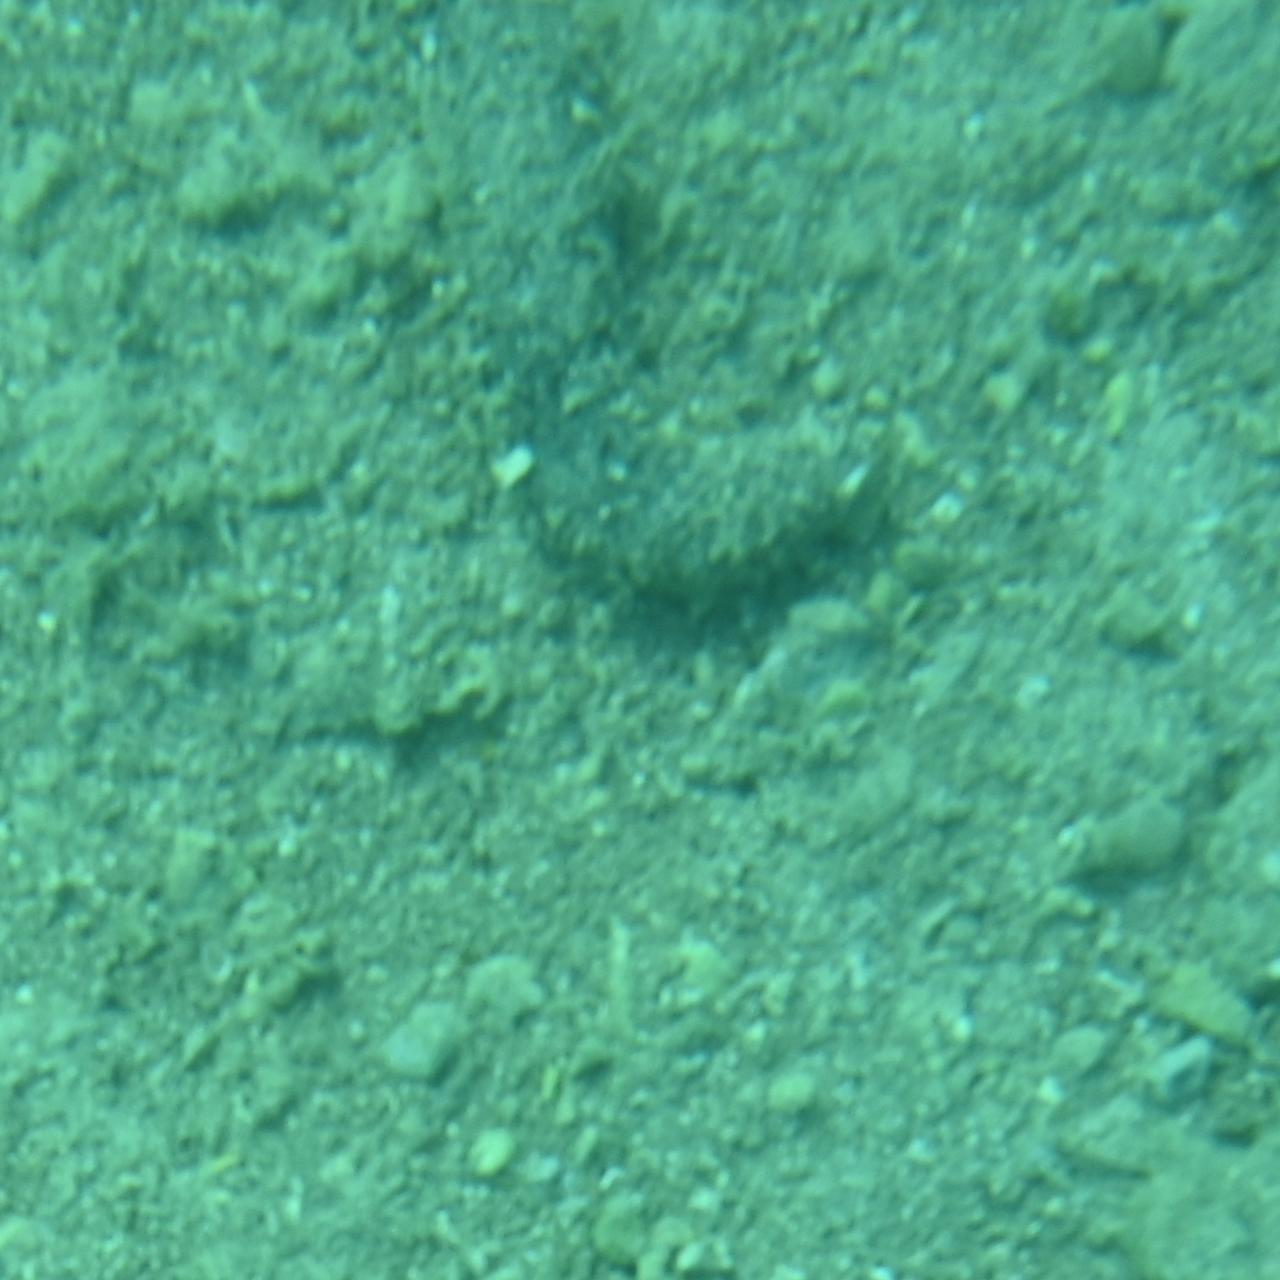Holothuria tubulosa: (356, 0, 924, 653)
